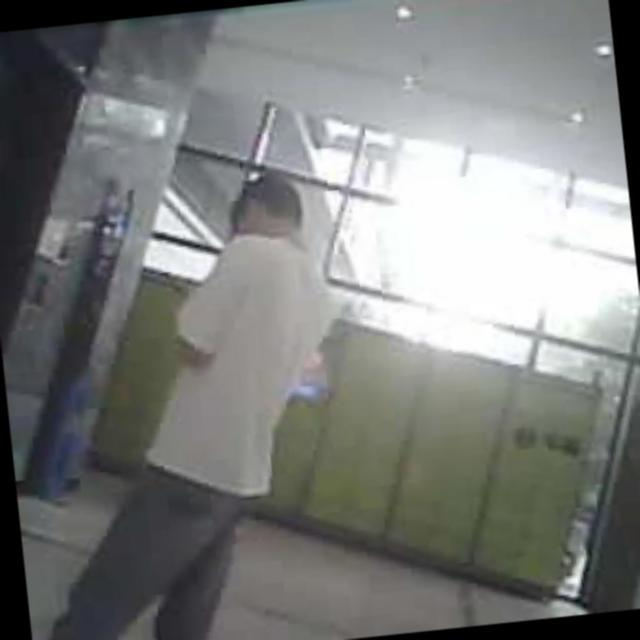person: (0, 160, 374, 640)
